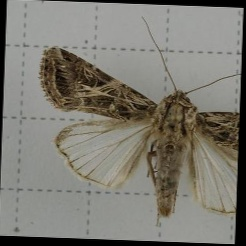Spodoptera litura: (36, 14, 238, 225)
